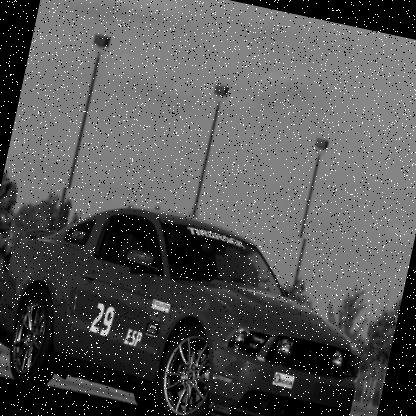Car: (0, 178, 385, 415)
